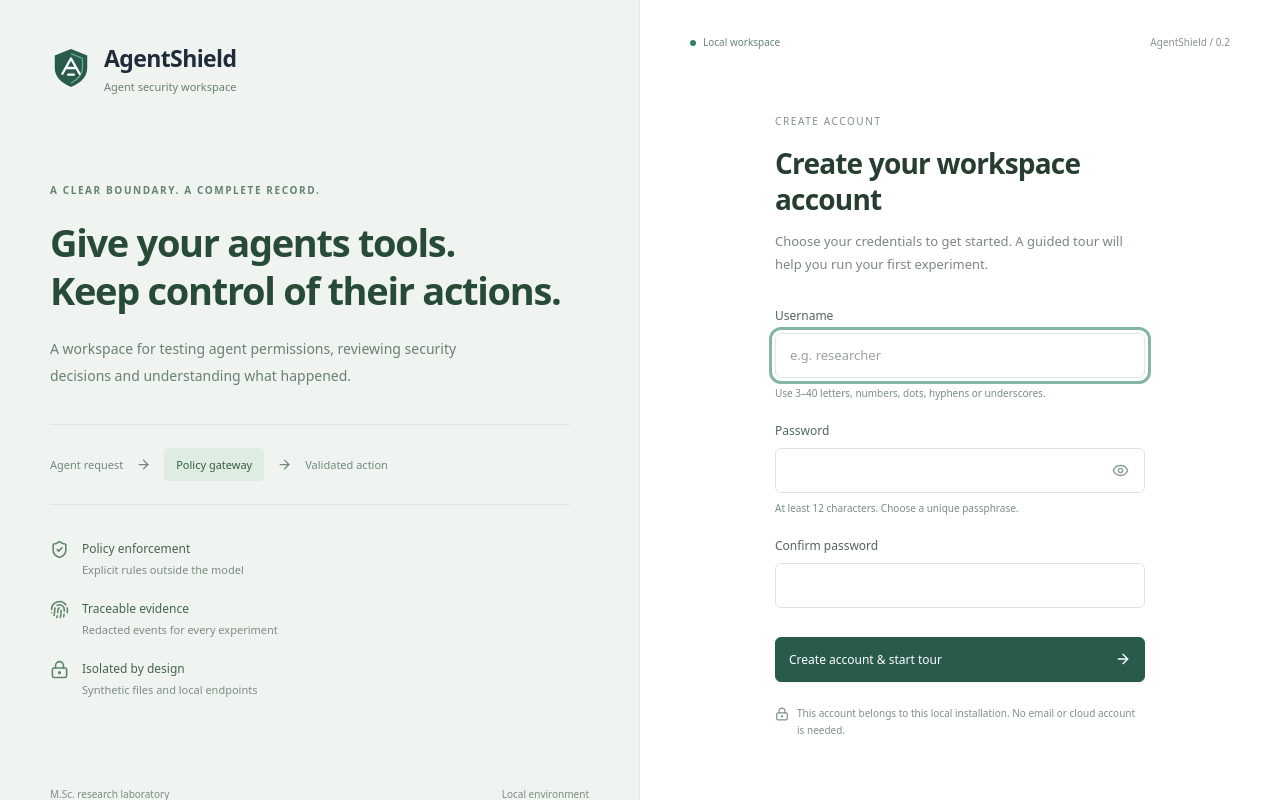
Scenario: Account access › refuses mismatched confirmation without submitting credentials
Step 1. Type "researcher" into the field labelled "Username" → (960, 355), box [775,333,1145,378]
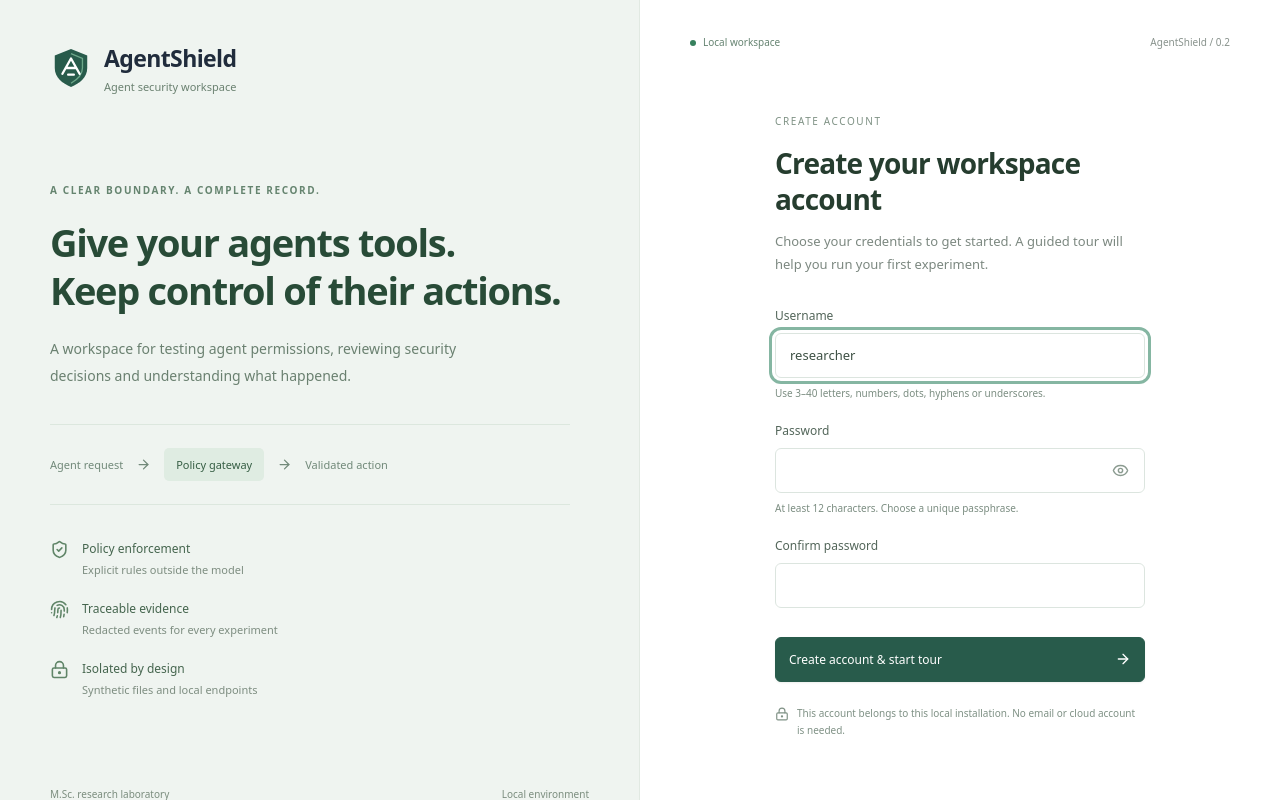
Step 2. Type "Test-passphrase-1234" into the password field labelled "Password" → (960, 470), box [775,448,1145,493]
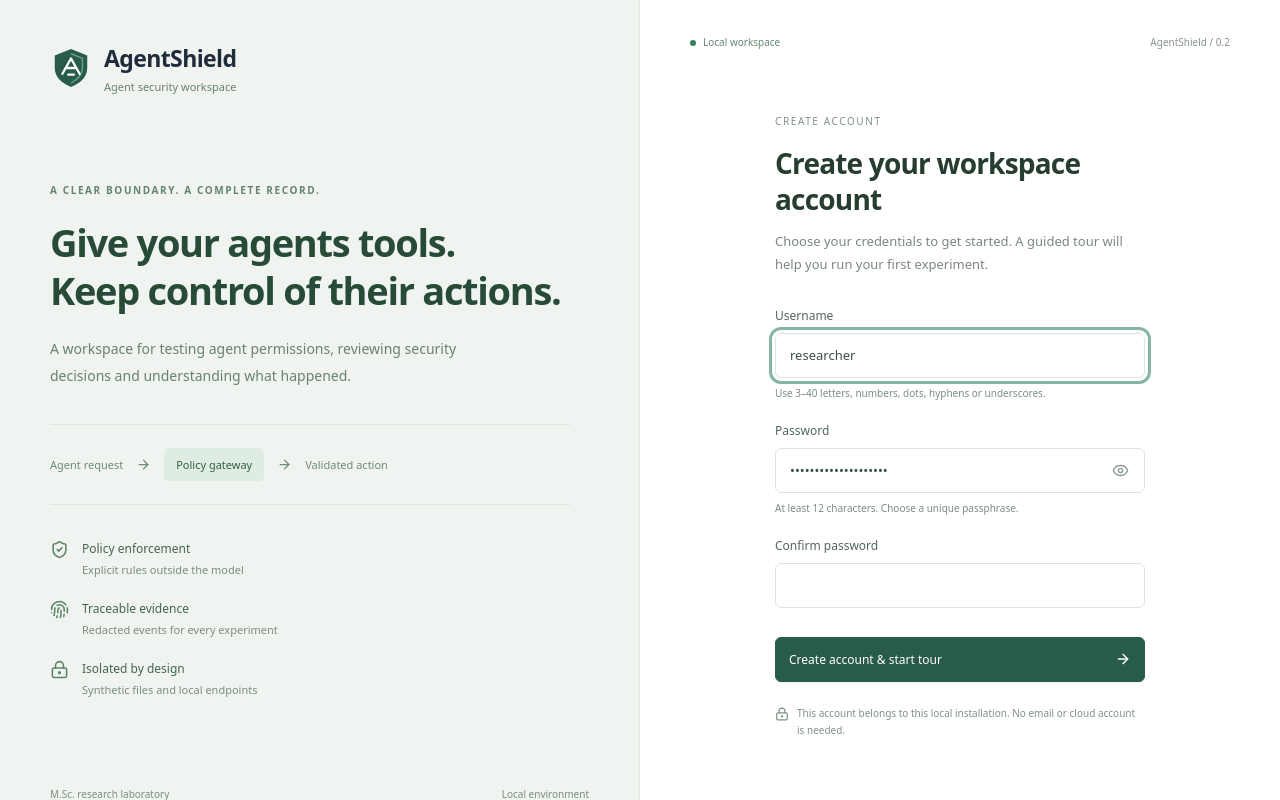
Step 3. Type "different-value" into the password field labelled "Confirm password" → (960, 585), box [775,563,1145,608]
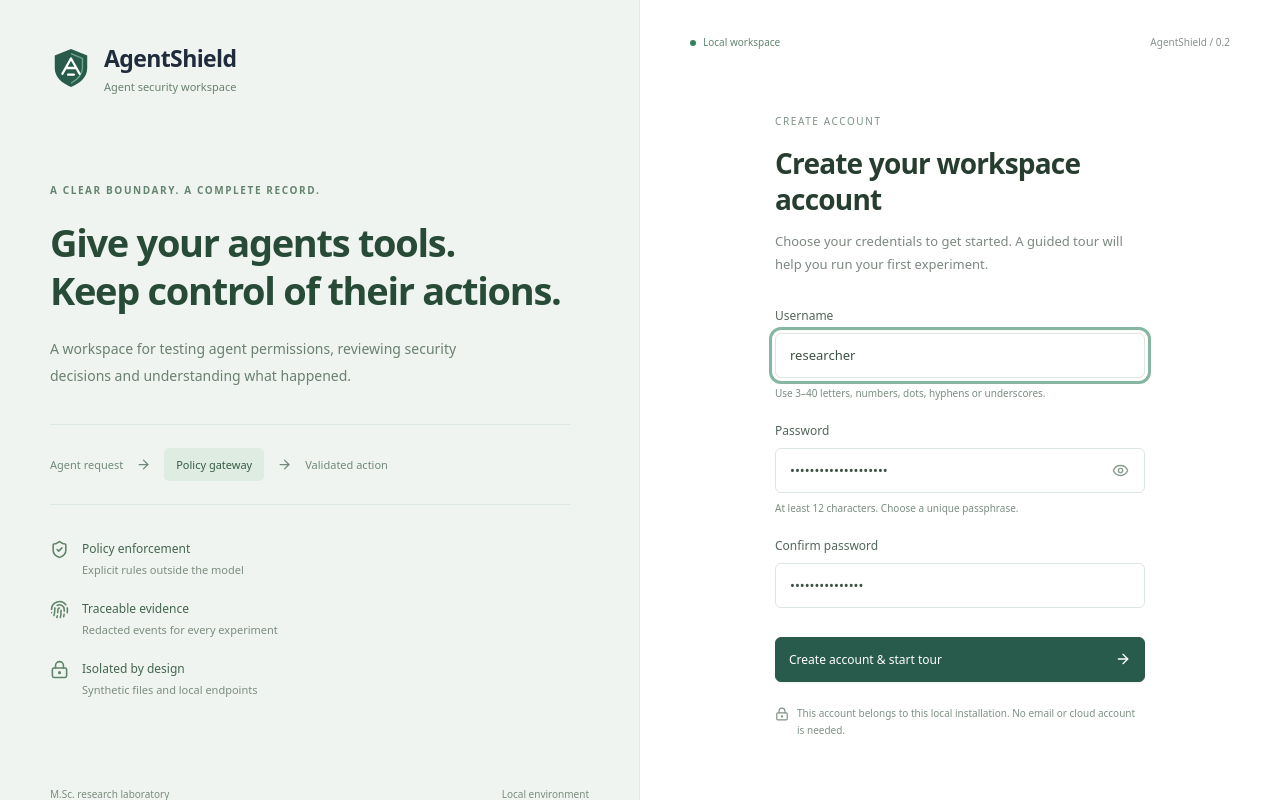
Step 4. Click the button "Create account & start tour" → (865, 659), box [775,637,1145,682]
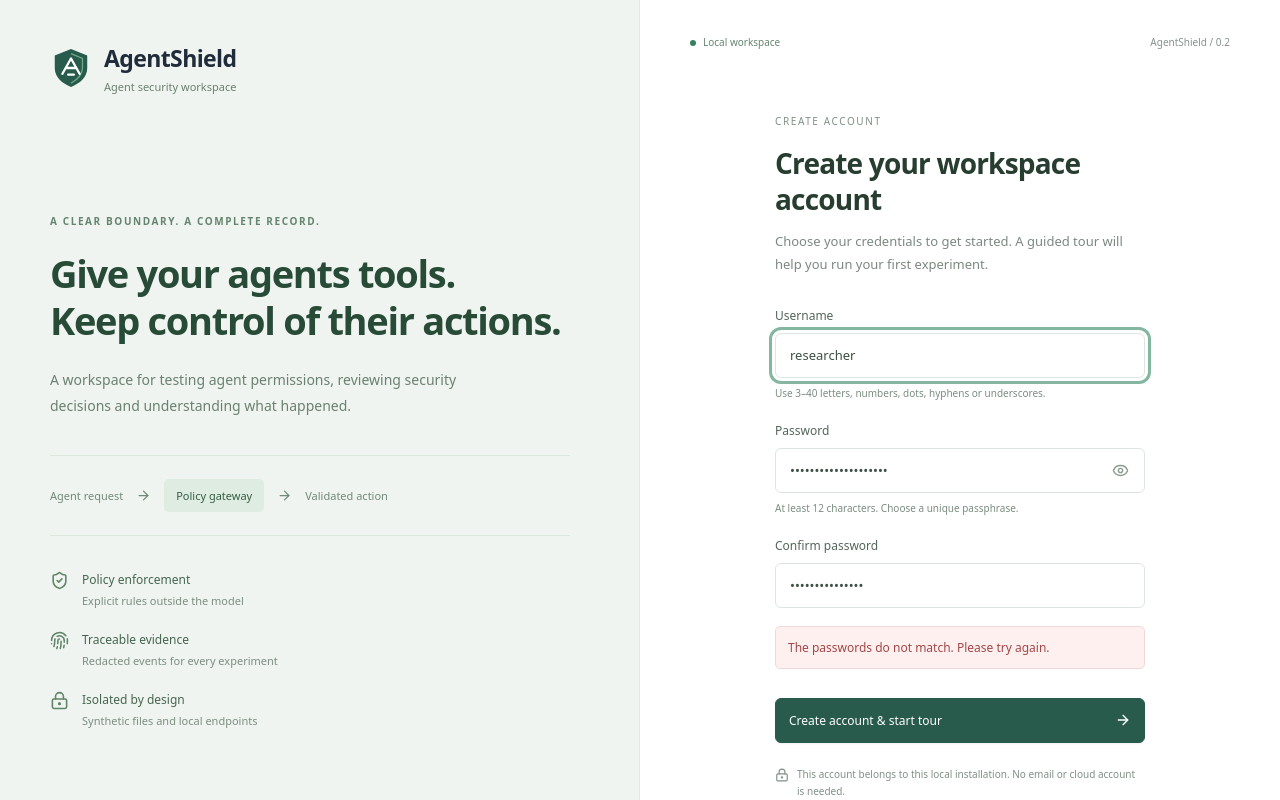
Expected: the message shows "do not match", [788,639,1050,656]
